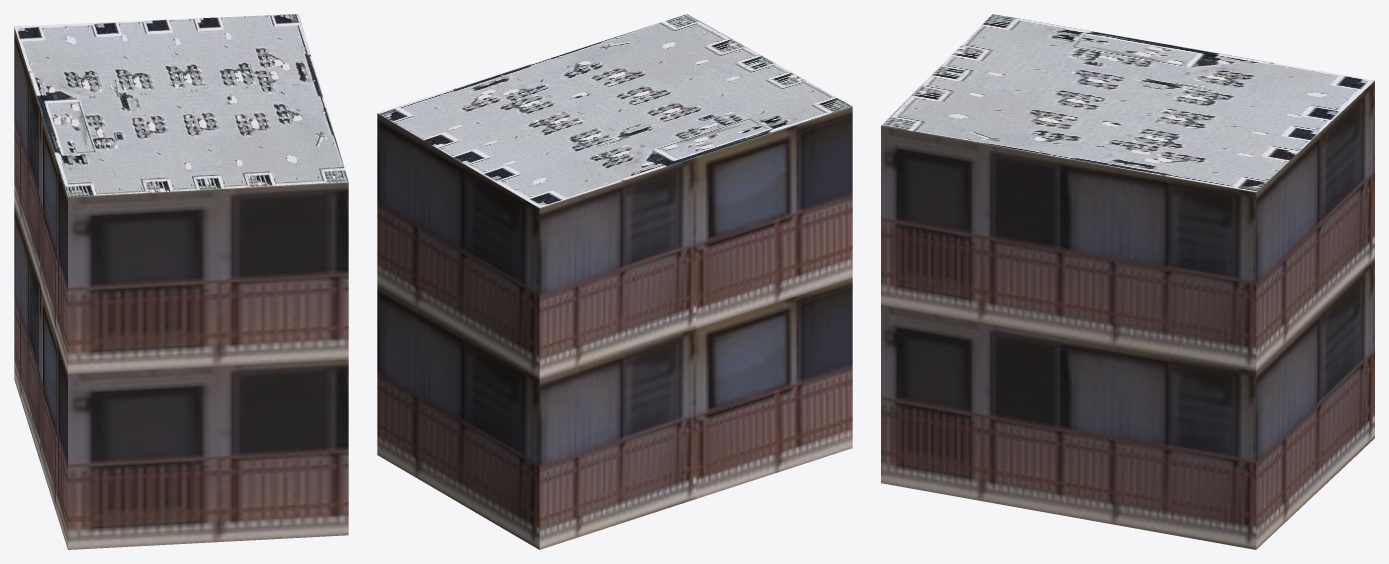
Rendered from ResTex__2366.fbx.
The picture shows the model from 3 angles, left to right: view 1: azimuth 30°, elevation 25°; view 2: azimuth 150°, elevation 25°; view 3: azimuth 270°, elevation 25°; orthographic projection. The views are drawn at different scales.
Visible parts, largest first — view 1: CityEngineMaterial_6_m, CityEngineMaterial_4_m; view 2: CityEngineMaterial_6_m, CityEngineMaterial_4_m; view 3: CityEngineMaterial_6_m, CityEngineMaterial_4_m.
Part boxes in pixels (x1,y1,x2,y2): CityEngineMaterial_6_m: (14,27,348,549); CityEngineMaterial_4_m: (14,14,348,196); CityEngineMaterial_6_m: (377,106,852,549); CityEngineMaterial_4_m: (378,14,851,207); CityEngineMaterial_6_m: (881,81,1374,549); CityEngineMaterial_4_m: (881,14,1374,192).
Size of the model in its own units: 6.42 by 6 by 7.51.
Materials: 2 (2 with a texture image).
